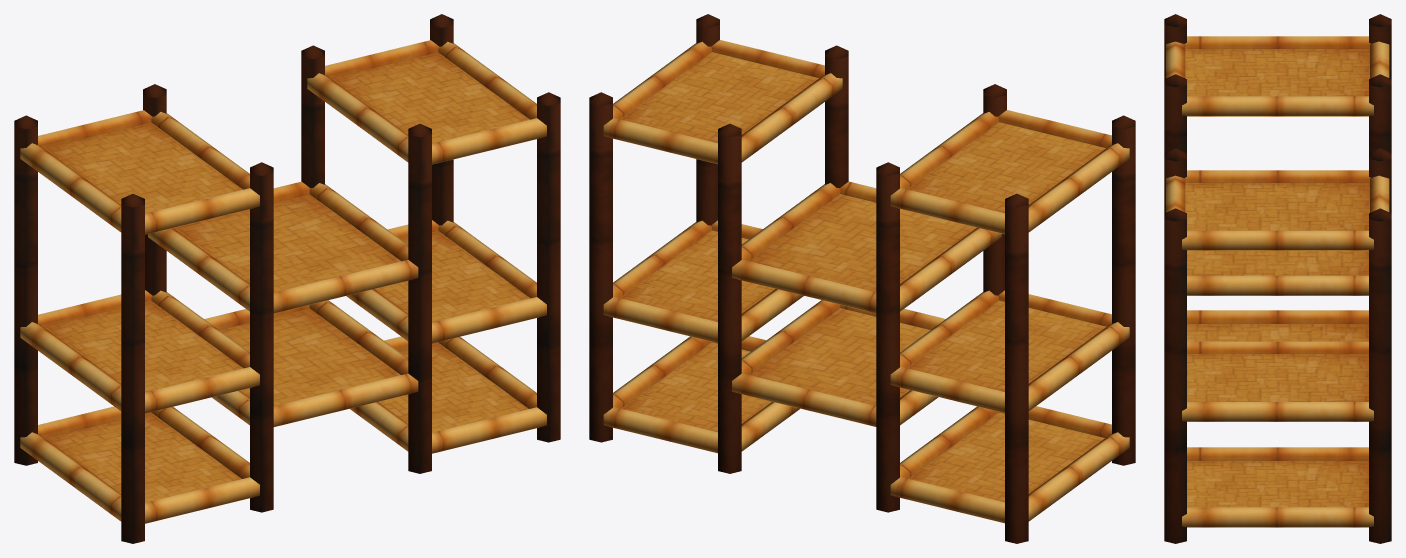
The model's file is Bamboo_Shelf_01.fbx.
3 views of the same model, side by side, from view 1: azimuth 30°, elevation 25°; view 2: azimuth 150°, elevation 25°; view 3: azimuth 270°, elevation 25° (orthographic). The views are drawn at different scales.
Visible parts, largest first — view 1: Bamboo_Shelf_01; view 2: Bamboo_Shelf_01; view 3: Bamboo_Shelf_01.
Boxes of the visible parts, <box> form: Bamboo_Shelf_01: <box>14,14,560,543</box>; Bamboo_Shelf_01: <box>589,14,1135,543</box>; Bamboo_Shelf_01: <box>1164,14,1391,543</box>.
Size of the model in its own units: 43.39 by 32.52 by 20.29.
